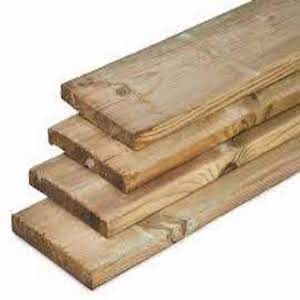combustible: (75, 5, 295, 264)
